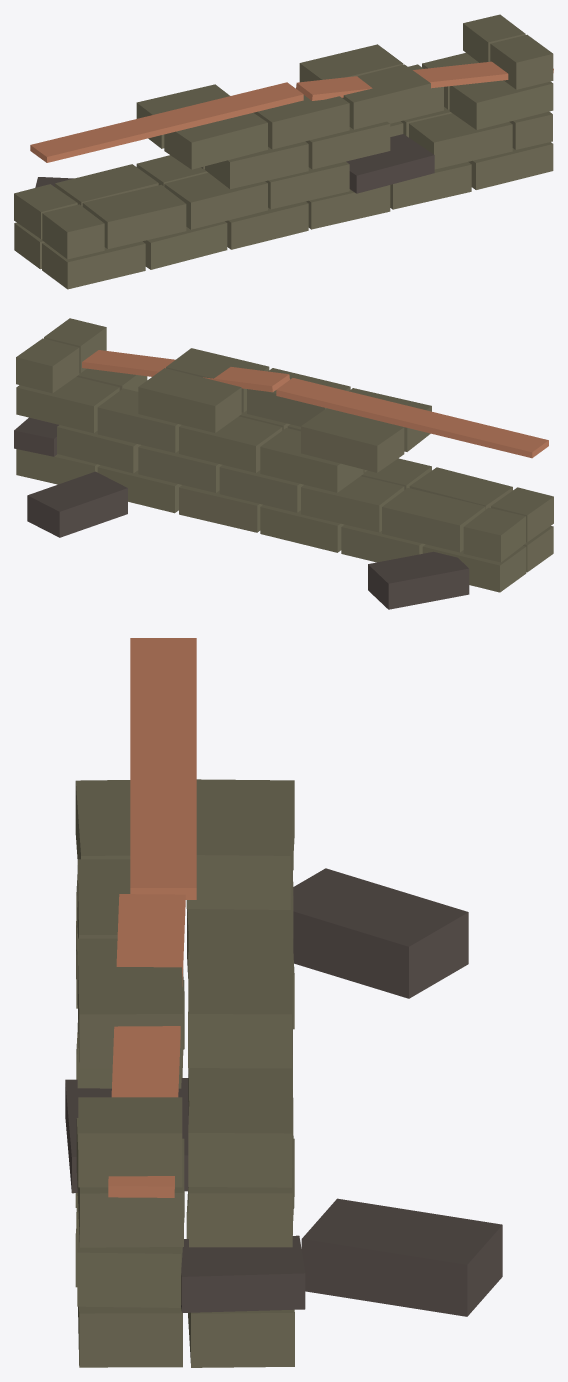
The model's file is SM_PretilTramo_v3_Tablon_e1_Danado_LOD0.fbx.
3 views of the same model, one above another, from view 1: azimuth 30°, elevation 25°; view 2: azimuth 150°, elevation 25°; view 3: azimuth 270°, elevation 25° (orthographic). The views are drawn at different scales.
Visible parts, largest first — view 1: SM_pretil_azotea_v13_LOD0; view 2: SM_pretil_azotea_v13_LOD0; view 3: SM_pretil_azotea_v13_LOD0.
Part boxes in pixels (x1,y1,x2,y2): SM_pretil_azotea_v13_LOD0: [14, 14, 553, 289]; SM_pretil_azotea_v13_LOD0: [14, 318, 553, 609]; SM_pretil_azotea_v13_LOD0: [65, 638, 502, 1367].
Size of the model in its own units: 5.23 by 1.26 by 1.98.
